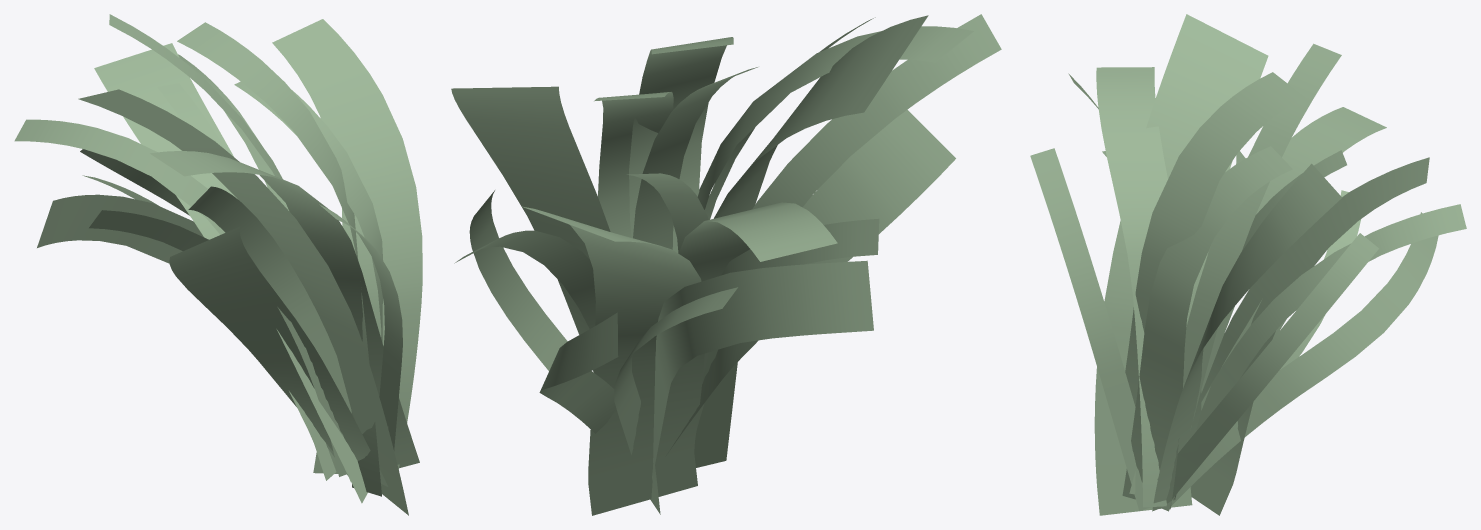
The model's file is SM_ocean_seaPlant_01.fbx.
3 renders of one model, left to right at view 1: azimuth 30°, elevation 25°; view 2: azimuth 150°, elevation 25°; view 3: azimuth 270°, elevation 25°, orthographic. The views are drawn at different scales.
Visible parts, largest first — view 1: SM_ocean_seaPlant_01_LOD0; view 2: SM_ocean_seaPlant_01_LOD0; view 3: SM_ocean_seaPlant_01_LOD0.
Part boxes in pixels (x1,y1,x2,y2): SM_ocean_seaPlant_01_LOD0: [14, 14, 422, 515]; SM_ocean_seaPlant_01_LOD0: [451, 14, 1001, 515]; SM_ocean_seaPlant_01_LOD0: [1030, 14, 1466, 515].
Size of what is drawn, in the model's own units: 120 by 151 by 152.
